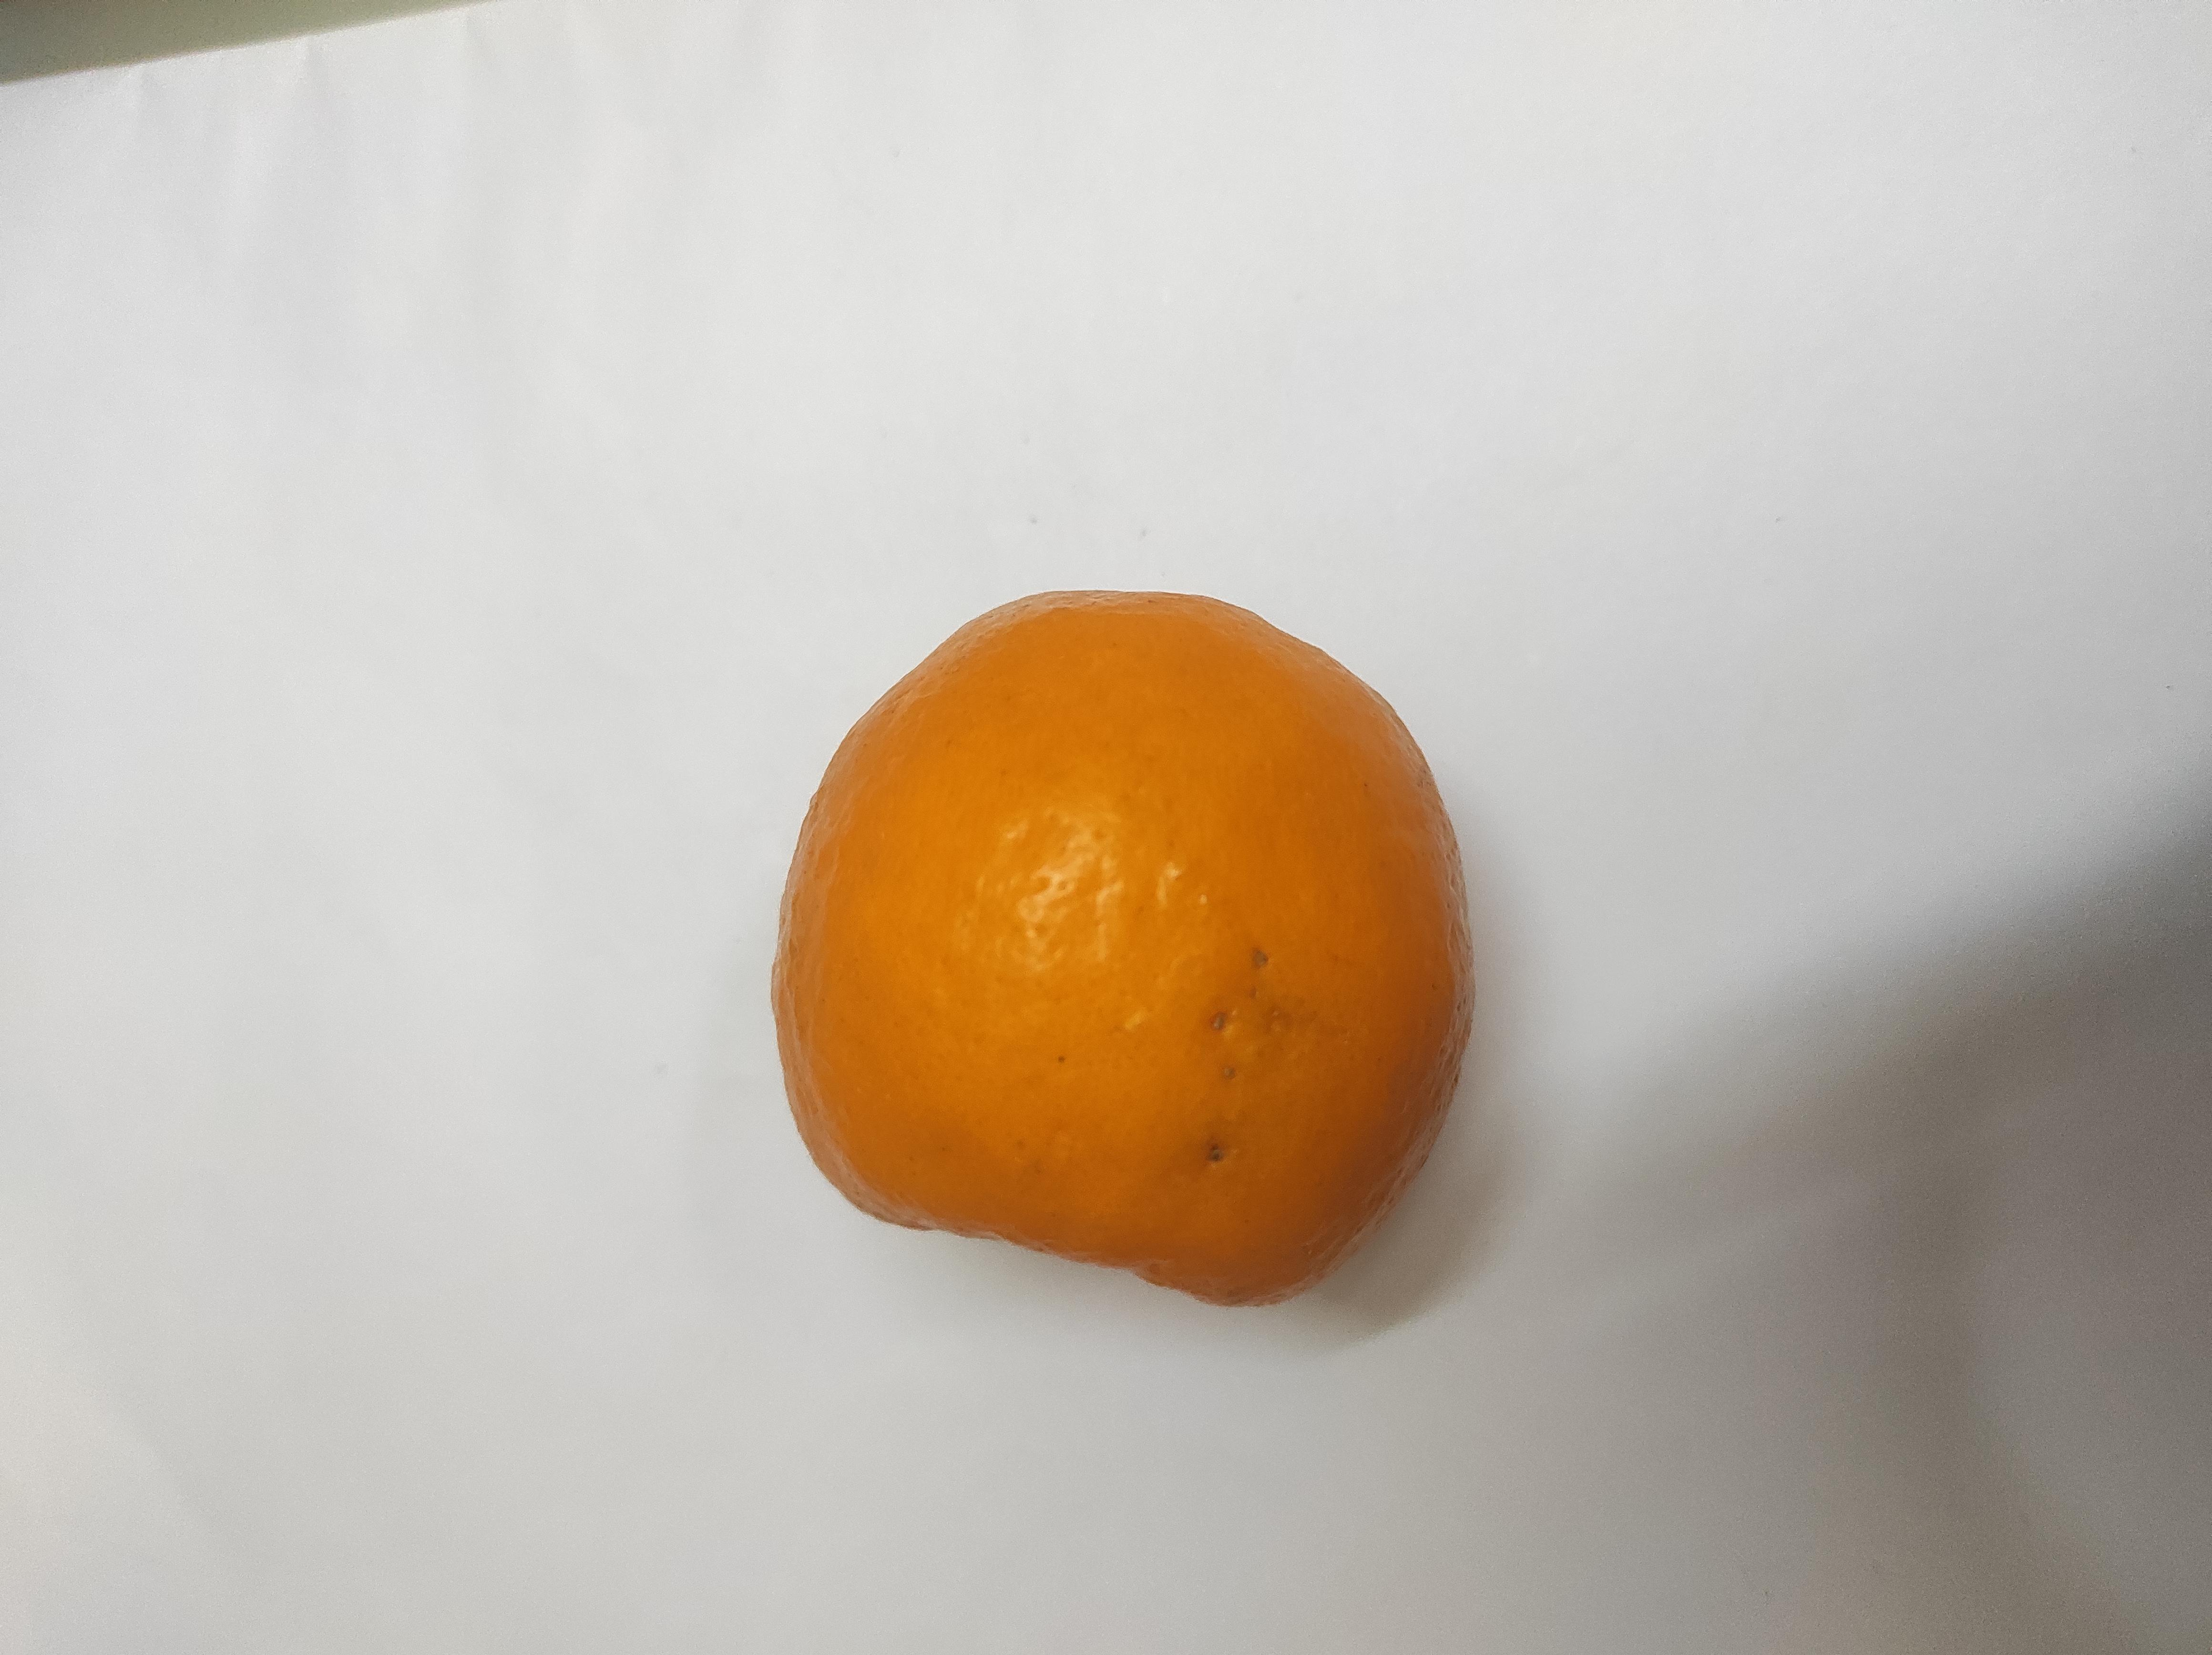Ripe: (772, 596, 1473, 1302)
